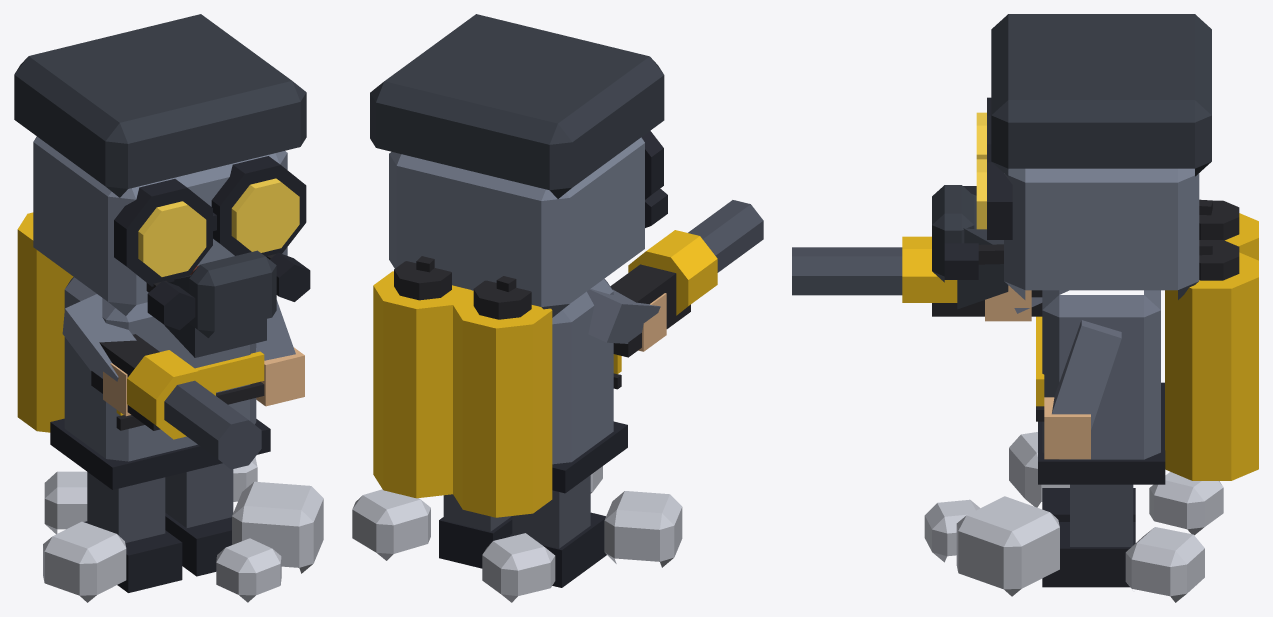
File: blinder.glb
The picture shows the model from 3 angles, left to right: view 1: azimuth 30°, elevation 25°; view 2: azimuth 150°, elevation 25°; view 3: azimuth 270°, elevation 25°; orthographic projection. The views are drawn at different scales.
Parts seen in each view (by area): view 1: blinder_mesh; view 2: blinder_mesh; view 3: blinder_mesh.
Boxes of the visible parts, left/top/right/bottom form: blinder_mesh: left=14, top=14, right=323, bottom=602; blinder_mesh: left=352, top=14, right=763, bottom=602; blinder_mesh: left=792, top=14, right=1258, bottom=602.
Bounding box in the file's own units: 0.9013 × 1.6 × 1.35.
1 material, 1 textured.
